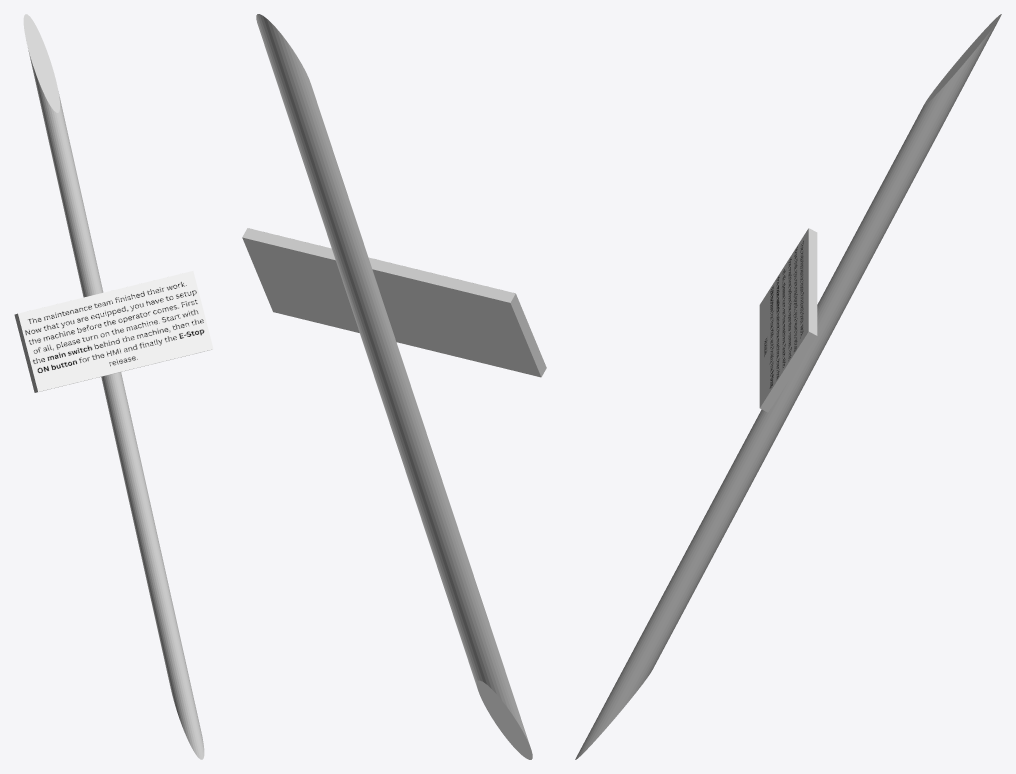
The model's file is ScenarioPanelSecond.glb.
3 renders of one model, left to right at view 1: azimuth 30°, elevation 25°; view 2: azimuth 150°, elevation 25°; view 3: azimuth 270°, elevation 25°, orthographic. The views are drawn at different scales.
Parts seen in each view (by area): view 1: SurfaceText, ScenarioPole, ScenarioPanelSecond; view 2: ScenarioPole, ScenarioPanelSecond; view 3: ScenarioPole, SurfaceText, ScenarioPanelSecond.
Part boxes in pixels (<box>): SurfaceText: <box>18,271,213,391</box>; ScenarioPole: <box>23,14,204,759</box>; ScenarioPanelSecond: <box>14,313,211,392</box>; ScenarioPole: <box>256,14,532,759</box>; ScenarioPanelSecond: <box>242,228,546,377</box>; ScenarioPole: <box>575,14,1001,759</box>; SurfaceText: <box>759,228,808,407</box>; ScenarioPanelSecond: <box>760,228,817,412</box>.
Size of the model in its own units: 1 by 3.36 by 1.74.
Materials: 1 (1 with a texture image).
